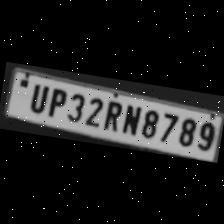2: (82, 93, 106, 127)
3: (63, 88, 86, 122)
7: (156, 108, 179, 144)
8: (138, 104, 162, 140), (174, 112, 198, 148)
9: (194, 115, 218, 153)
N: (119, 100, 142, 136)
P: (44, 84, 68, 119)
R: (102, 96, 124, 130)
U: (24, 79, 49, 113)
